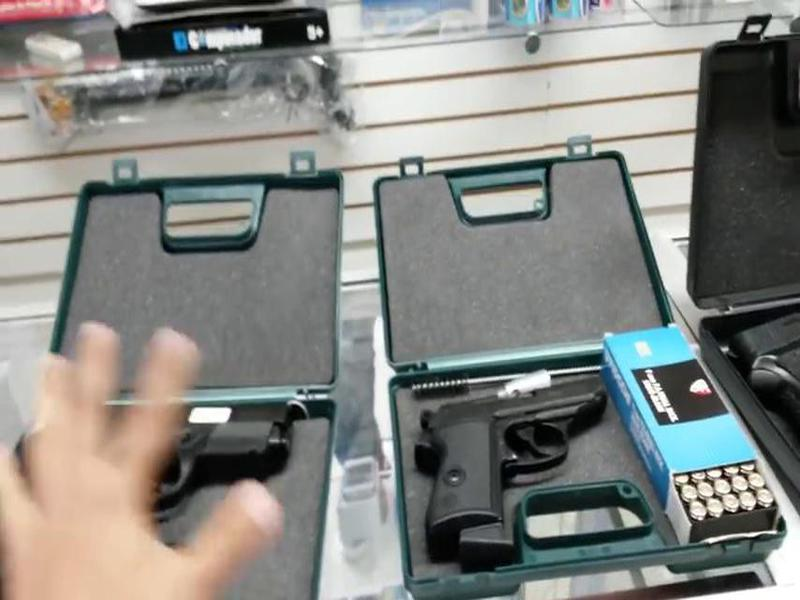Pistola: (402, 366, 616, 552)
